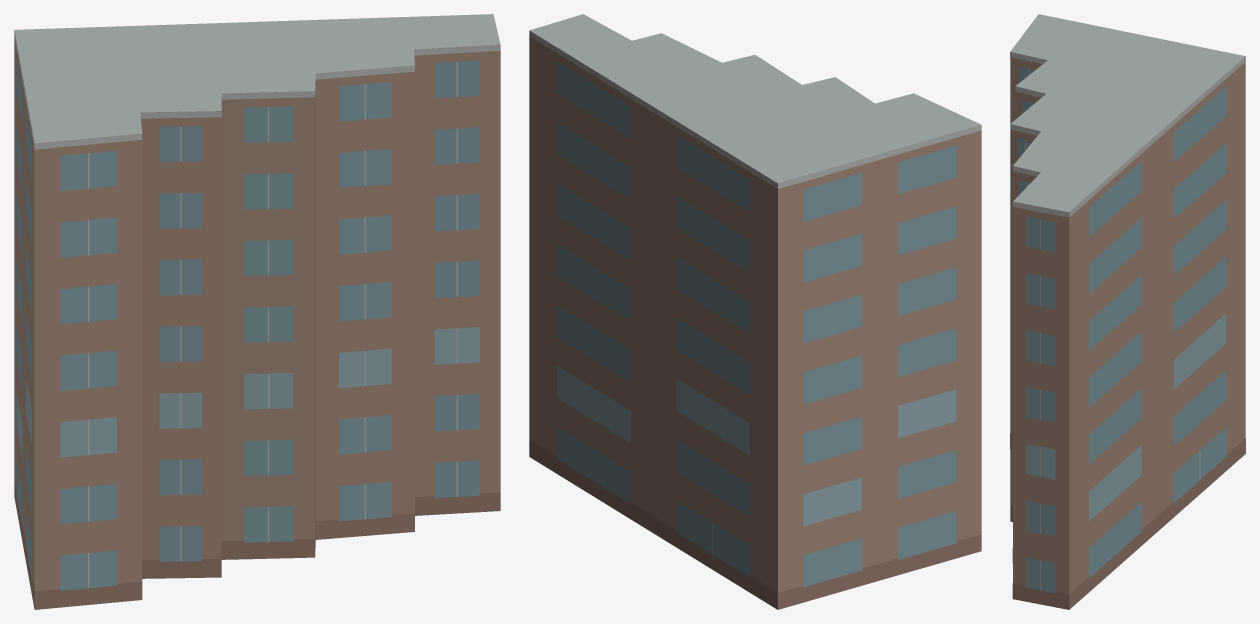
Rendered from survey-upis-32954688.glb.
3 views of the same model, side by side, from view 1: azimuth 30°, elevation 25°; view 2: azimuth 150°, elevation 25°; view 3: azimuth 270°, elevation 25° (orthographic). The views are drawn at different scales.
Parts seen in each view (by area): view 1: survey-upis-32954688.tmp; view 2: survey-upis-32954688.tmp; view 3: survey-upis-32954688.tmp.
Part boxes in pixels (left/top/right/bottom): survey-upis-32954688.tmp: left=14, top=14, right=500, bottom=609; survey-upis-32954688.tmp: left=529, top=14, right=981, bottom=609; survey-upis-32954688.tmp: left=1010, top=14, right=1245, bottom=609.
Bounding box in the file's own units: 19.48 × 18.2 × 9.79.
